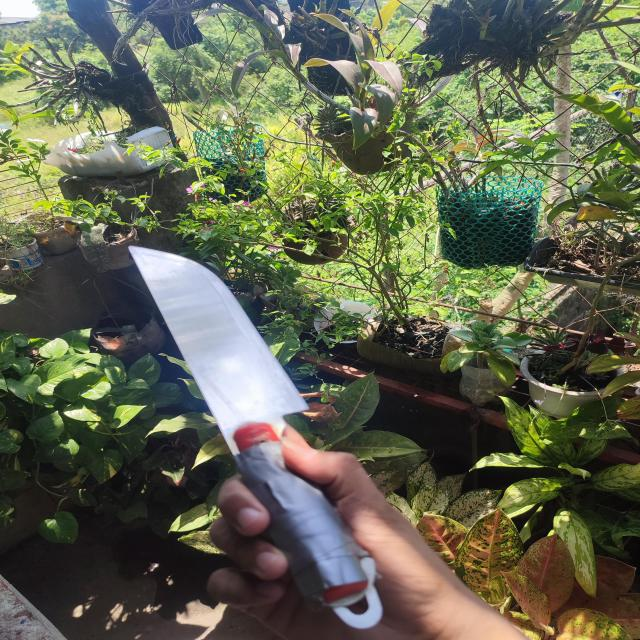knife: (126, 246, 382, 630)
